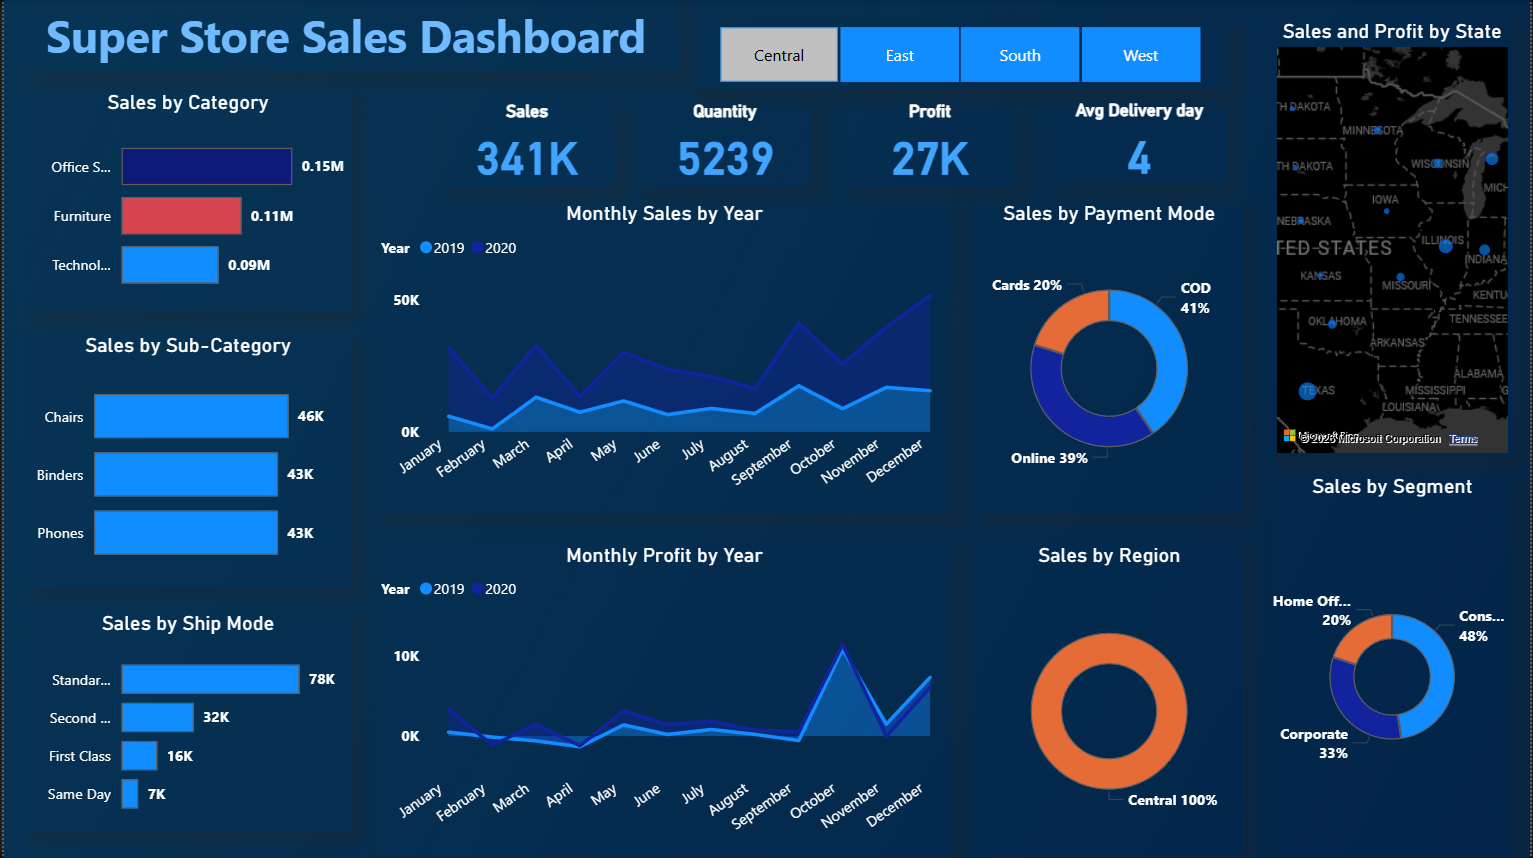

Layout of this report page (visuals, bound fields, positions):
{"tool":"powerbi","page":{"name":"Page 1","canvas":[1280,720],"ordinal":0},"visuals":[{"type":"clusteredBarChart","title":"Sales by Category","fields":{"Category":["Sheet1.Category"],"Y":["Sum(Sheet1.Sales)"]},"box":[18.3,75.9,273.4,185.7],"z":0},{"type":"clusteredBarChart","title":"Sales by Sub-Category","fields":{"Category":["Sheet1.Sub-Category"],"Y":["Sum(Sheet1.Sales)"]},"box":[18.3,278.6,273.4,213.2],"z":1000},{"type":"clusteredBarChart","title":"Sales by Ship Mode","fields":{"Category":["Sheet1.Ship Mode"],"Y":["Sum(Sheet1.Sales)"]},"box":[18.3,512.7,273.4,184.4],"z":2000},{"type":"stackedAreaChart","title":"Monthly Sales by Year","fields":{"Y":["Sum(Sheet1.Sales)"],"Series":["Sheet1.Order Date.Variation.Date Hierarchy.Year"],"Category":["Sheet1.Order Date.Variation.Date Hierarchy.Month","Sheet1.Order Date.Variation.Date Hierarchy.Day"]},"box":[311.3,168.7,485.3,261.6],"z":3000},{"type":"stackedAreaChart","title":"Monthly Profit by Year","fields":{"Series":["Sheet1.Order Date.Variation.Date Hierarchy.Year"],"Category":["Sheet1.Order Date.Variation.Date Hierarchy.Month","Sheet1.Order Date.Variation.Date Hierarchy.Day"],"Y":["Sum(Sheet1.Profit)"]},"box":[311.3,455.2,485.3,264.2],"z":4000},{"type":"map","title":"Sales and Profit by State","fields":{"Category":["Sheet1.State"],"Size":["Sum(Sheet1.Sales)"]},"box":[1063.4,15.7,202.7,368.9],"z":5000},{"type":"donutChart","title":"Sales by Segment","fields":{"Category":["Sheet1.Segment"],"Y":["Sum(Sheet1.Sales)"]},"box":[1063.4,397.6,202.7,321.8],"z":6000},{"type":"donutChart","title":"Sales by Region","fields":{"Category":["Sheet1.Region"],"Y":["Sum(Sheet1.Sales)"]},"box":[814.9,455.2,225,264.2],"z":7000},{"type":"donutChart","title":"Sales by Payment Mode","fields":{"Y":["Sum(Sheet1.Sales)"],"Category":["Sheet1.Payment Mode"]},"box":[814.9,168.7,225,261.6],"z":8000},{"type":"slicer","fields":{"Values":["Sheet1.Region"]},"box":[574.2,15.7,452.6,60.2],"z":9000},{"type":"textbox","box":[18.3,0,548.1,62.8],"z":10000},{"type":"card","title":"Sales","fields":{"Values":["Sum(Sheet1.Sales)"]},"box":[364.9,85,147.8,71.9],"z":11000},{"type":"card","title":"Quantity","fields":{"Values":["Sum(Sheet1.Quantity)"]},"box":[531,85,146.5,71.9],"z":12000},{"type":"card","title":"Profit","fields":{"Values":["Sum(Sheet1.Profit)"]},"box":[703.7,85,146.5,71.9],"z":13000},{"type":"card","title":"Avg Delivery day","fields":{"Values":["Avg(Sheet1.Average delivery day)"]},"box":[879,83.7,147.8,71.9],"z":14000}]}

Visuals, with their boxes in screenshot pixels (x1, y1, x2, y2), scaled from the page's 1280x720 canvas onto the 1533x858 screenshot:
"Sales by Category" clusteredBarChart: (x1=22, y1=90, x2=349, y2=312)
"Sales by Sub-Category" clusteredBarChart: (x1=22, y1=332, x2=349, y2=586)
"Sales by Ship Mode" clusteredBarChart: (x1=22, y1=611, x2=349, y2=831)
"Monthly Sales by Year" stackedAreaChart: (x1=373, y1=201, x2=954, y2=513)
"Monthly Profit by Year" stackedAreaChart: (x1=373, y1=542, x2=954, y2=857)
"Sales and Profit by State" map: (x1=1274, y1=19, x2=1516, y2=458)
"Sales by Segment" donutChart: (x1=1274, y1=474, x2=1516, y2=857)
"Sales by Region" donutChart: (x1=976, y1=542, x2=1245, y2=857)
"Sales by Payment Mode" donutChart: (x1=976, y1=201, x2=1245, y2=513)
slicer - Sheet1.Region: (x1=688, y1=19, x2=1230, y2=90)
textbox: (x1=22, y1=0, x2=678, y2=75)
"Sales" card: (x1=437, y1=101, x2=614, y2=187)
"Quantity" card: (x1=636, y1=101, x2=811, y2=187)
"Profit" card: (x1=843, y1=101, x2=1018, y2=187)
"Avg Delivery day" card: (x1=1053, y1=100, x2=1230, y2=185)
